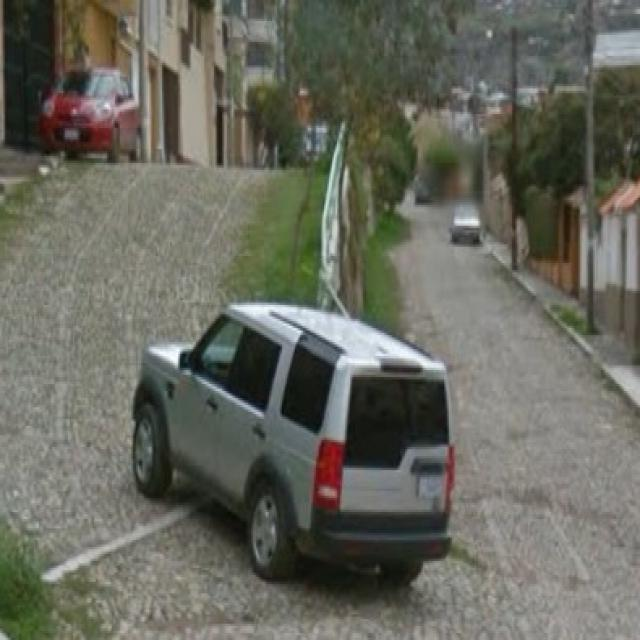car: (115, 298, 459, 598), (38, 65, 141, 158), (450, 201, 483, 243)
